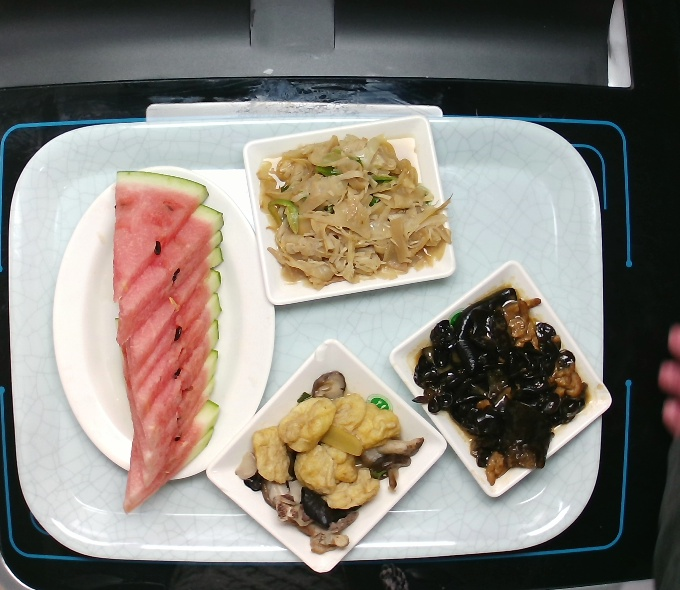wcq-LuSun: (249, 128, 457, 288)
wcq-MuErChaoRou: (412, 283, 598, 493)
wcq-XiGua: (93, 161, 231, 518)
wcq-YouPaoPaiGu: (230, 361, 425, 558)
